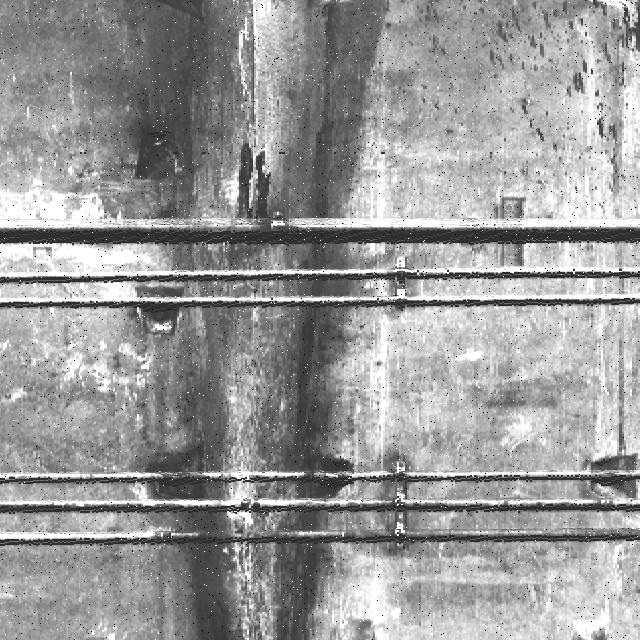leakage: (83, 1, 396, 639)
